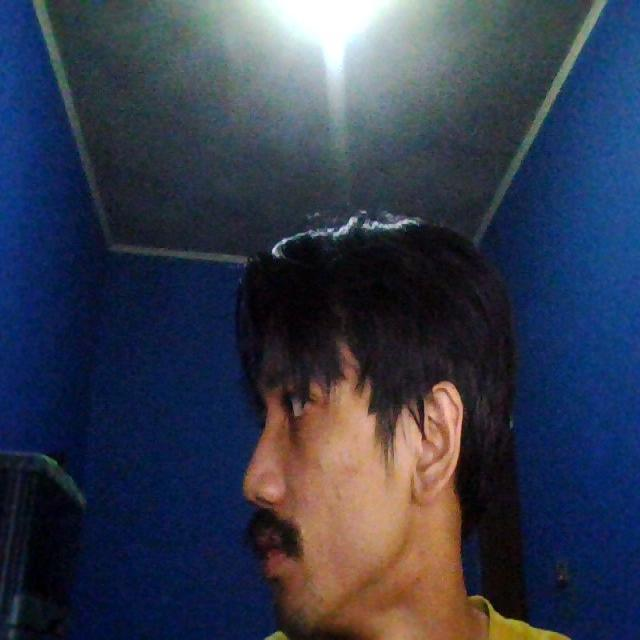Melihat kekanan: (170, 156, 526, 640)
